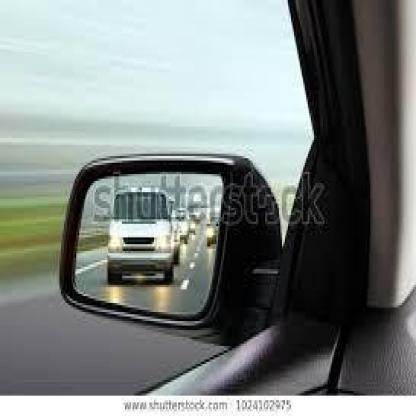other: (98, 219, 182, 310), (203, 214, 218, 248)
